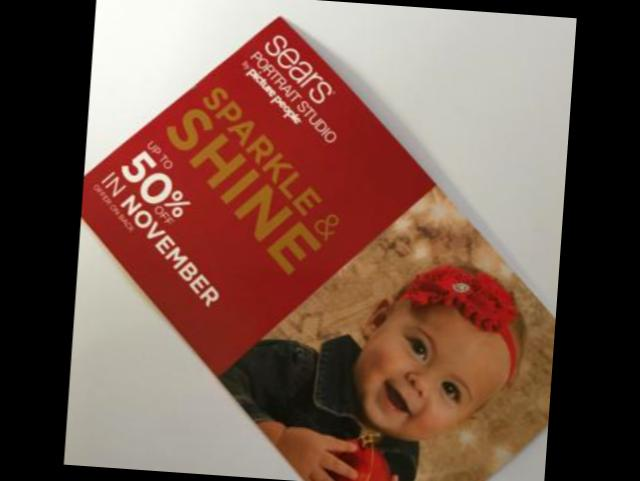cardboard paper: (81, 17, 556, 481)
